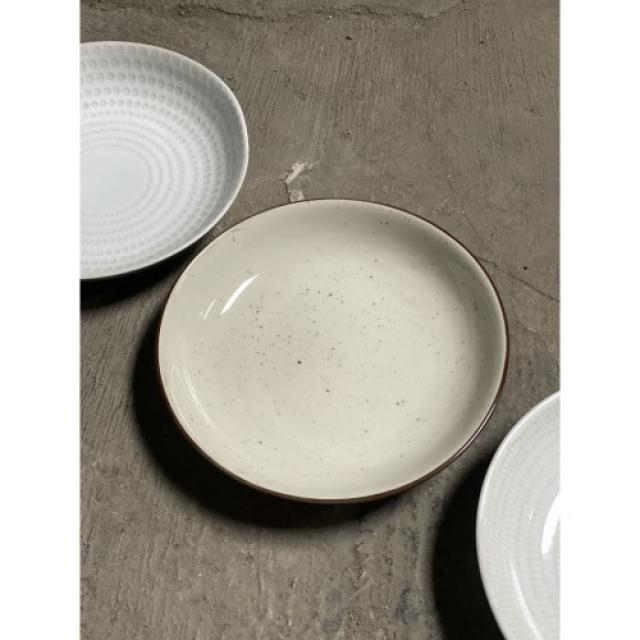Plate: (143, 187, 516, 518)
